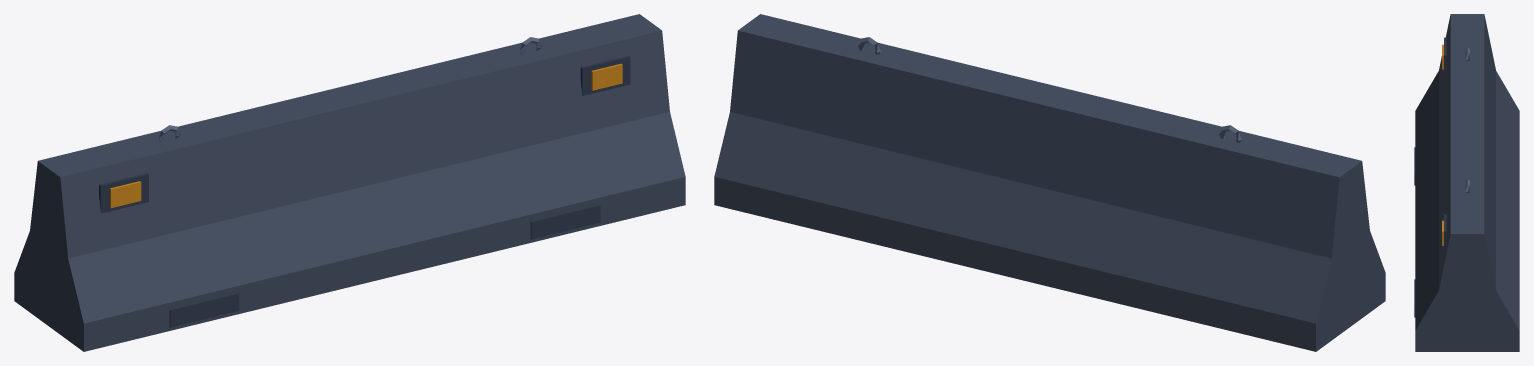
The model's file is city_highway_barrier.glb.
3 renders of one model, left to right at view 1: azimuth 30°, elevation 25°; view 2: azimuth 150°, elevation 25°; view 3: azimuth 270°, elevation 25°, orthographic. The views are drawn at different scales.
Parts seen in each view (by area): view 1: concrete_body, foot_recess, foot_recess.001, reflector_mount.001, reflector_mount, reflector.001, reflector; view 2: concrete_body; view 3: concrete_body, reflector_mount, reflector_mount.001.
Boxes of the visible parts, x1,y1,x2,y2 form: concrete_body: (14,14,685,351); foot_recess: (169,293,239,327); foot_recess.001: (530,205,600,239); reflector_mount.001: (580,55,630,95); reflector_mount: (99,173,148,213); reflector.001: (591,63,622,90); reflector: (110,181,141,208); concrete_body: (714,14,1385,351); concrete_body: (1415,14,1519,351); reflector_mount: (1444,37,1446,75); reflector_mount.001: (1444,214,1446,251).
Bounding box in the file's own units: 4 × 1.09 × 0.808.
